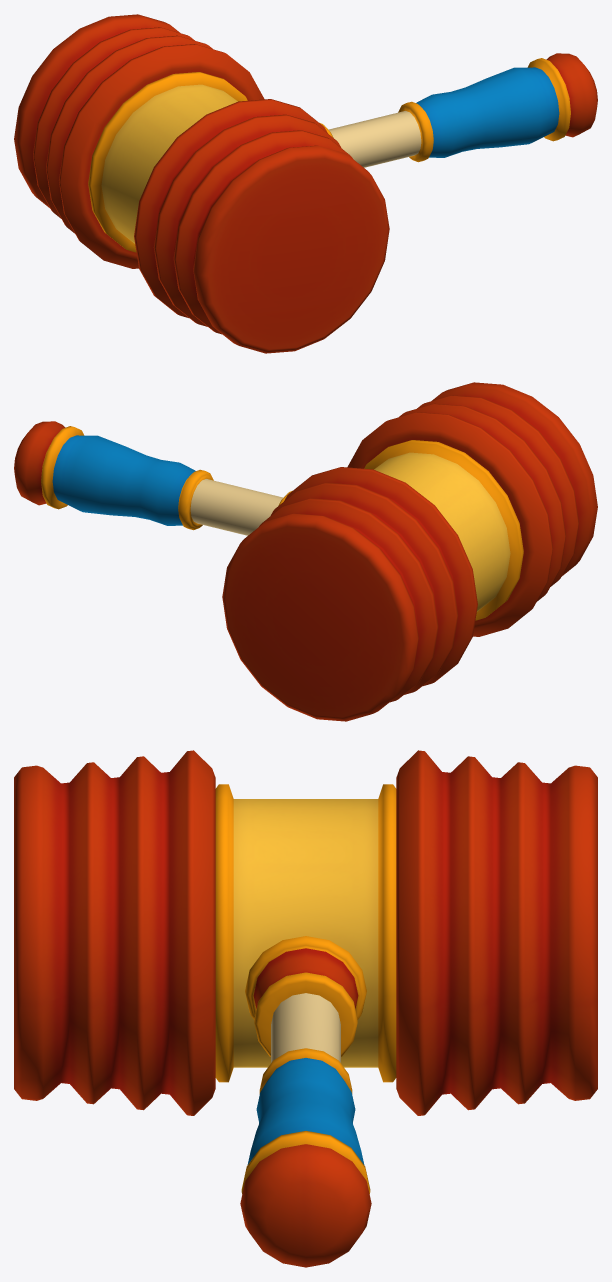
The model's file is StackUp_ToyHammer.fbx.
3 renders of one model, top to bottom at view 1: azimuth 30°, elevation 25°; view 2: azimuth 150°, elevation 25°; view 3: azimuth 270°, elevation 25°, orthographic. The views are drawn at different scales.
Visible parts, largest first — view 1: StackUp_ToyHammer; view 2: StackUp_ToyHammer; view 3: StackUp_ToyHammer.
Boxes of the visible parts, x1,y1,x2,y2 form: StackUp_ToyHammer: (14, 14, 597, 353); StackUp_ToyHammer: (14, 382, 597, 721); StackUp_ToyHammer: (14, 750, 597, 1267).
Bounding box in the file's own units: 22.06 × 9.46 × 14.99.
